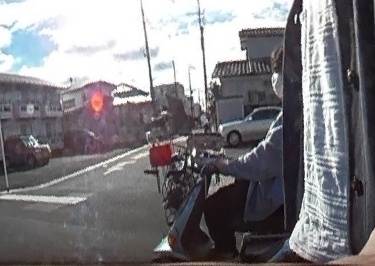person: (202, 46, 293, 255)
